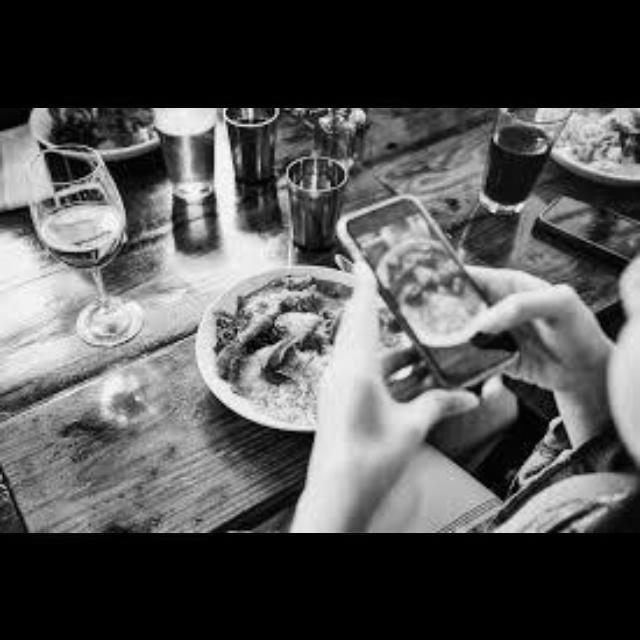fake: (331, 192, 544, 394)
